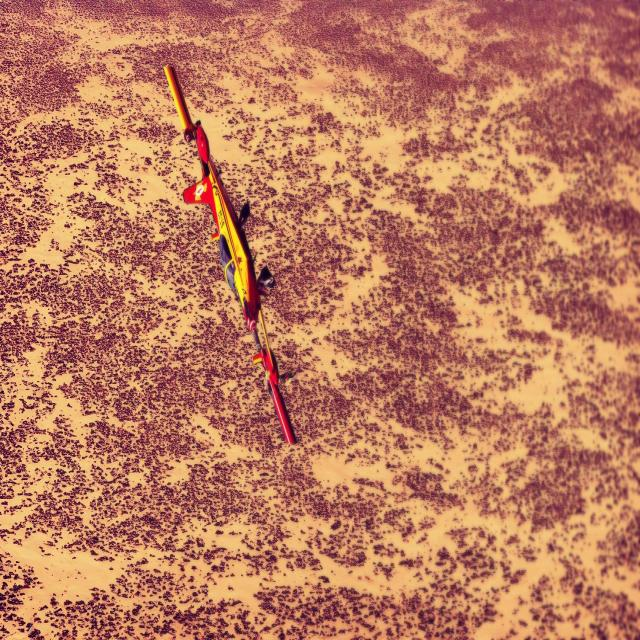airplane: (162, 62, 297, 446)
